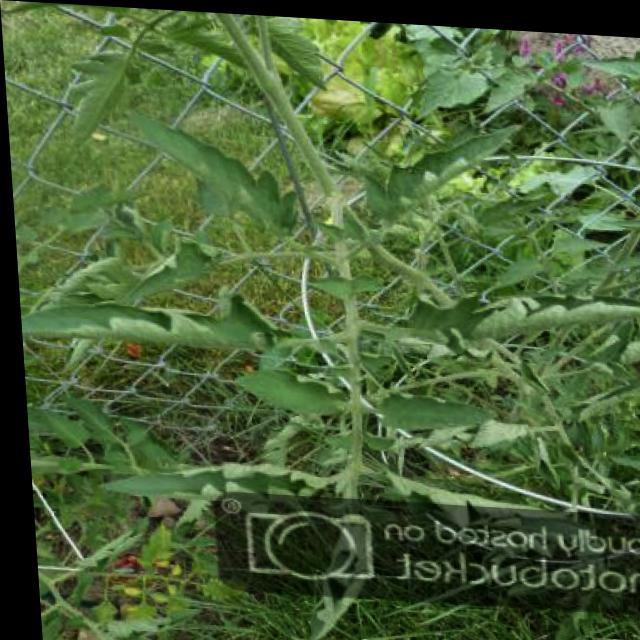Tomato mold leaf: (120, 108, 300, 230), (17, 282, 282, 362), (380, 280, 639, 349), (227, 363, 350, 425), (369, 388, 495, 435)
